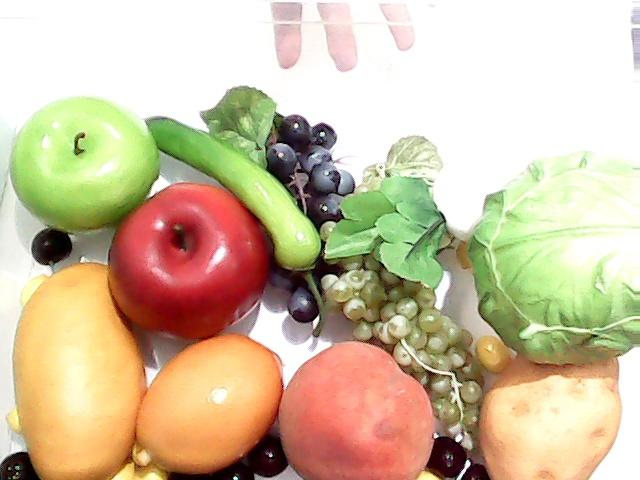apple: (102, 174, 278, 338), (7, 98, 165, 244)
cabbage: (472, 144, 640, 377)
grape: (331, 258, 489, 438), (278, 113, 354, 323)
lemon: (132, 326, 290, 474)
mango: (13, 260, 141, 480)
peach: (268, 331, 444, 480)
pepper: (136, 114, 324, 274)
potato: (477, 343, 623, 480)
radish: (323, 118, 640, 290)
